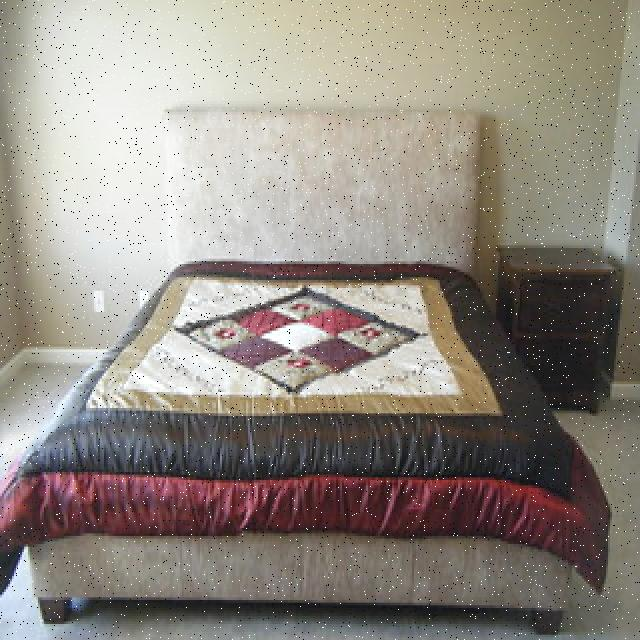bed: (10, 200, 620, 622)
